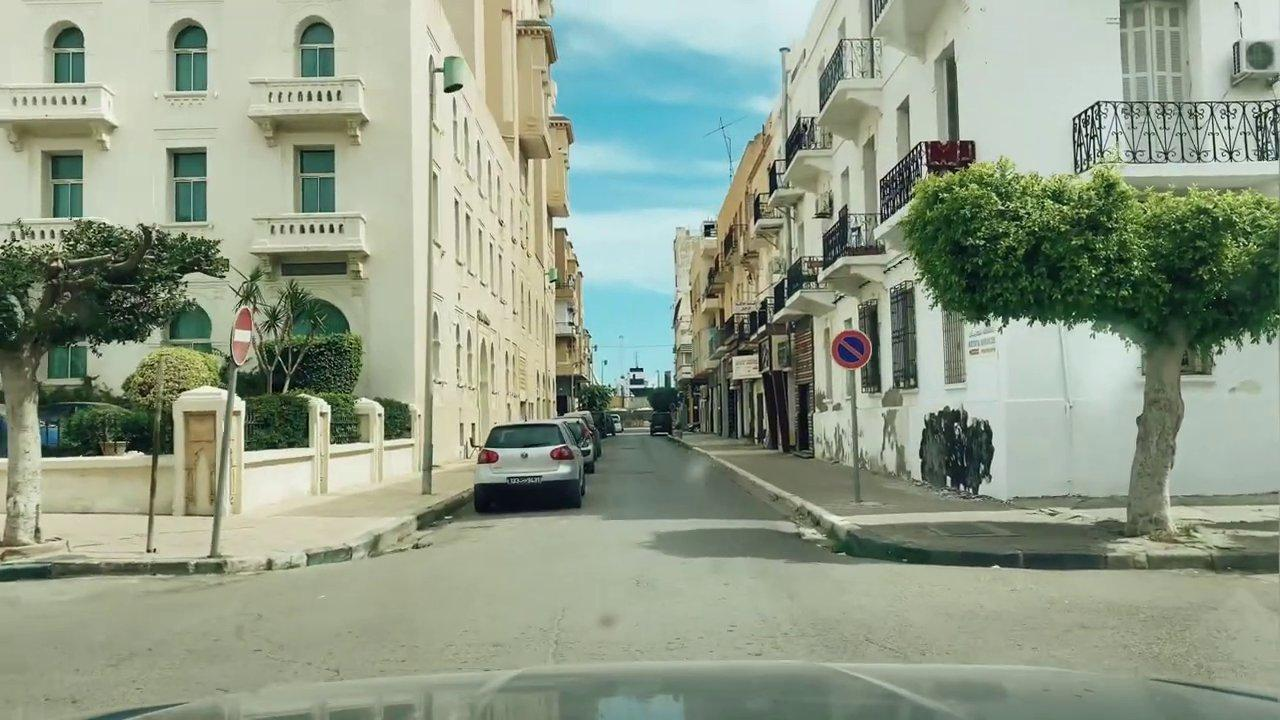no entry: (228, 301, 263, 370)
no parking: (830, 329, 875, 372)
